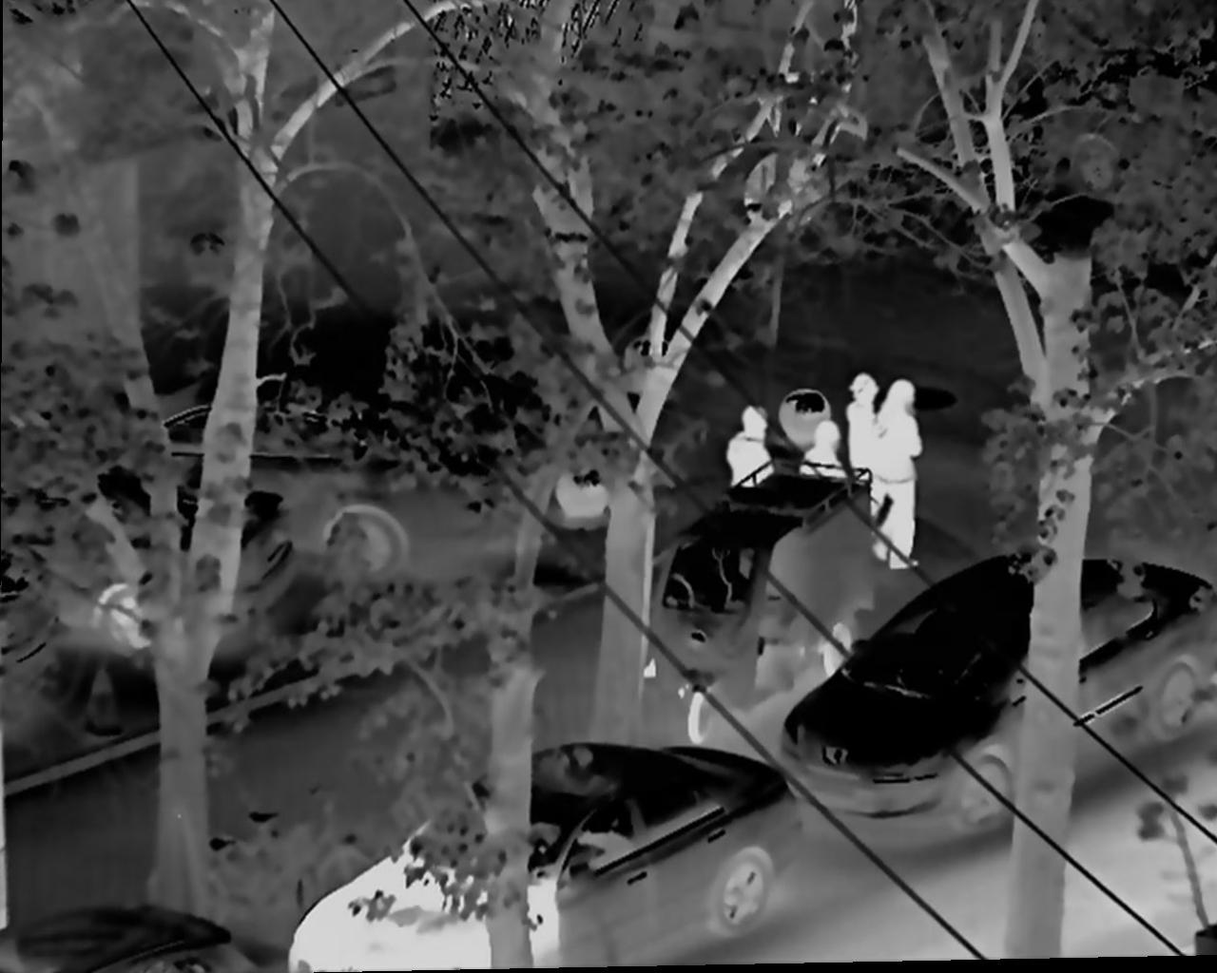person: (873, 364, 932, 582), (723, 399, 776, 499), (840, 372, 881, 488), (794, 422, 851, 494)
